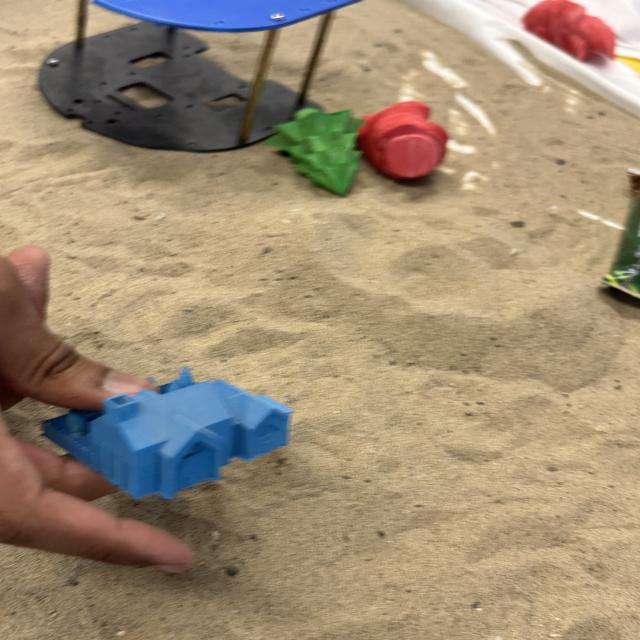fire: (520, 0, 624, 67), (361, 101, 448, 178)
house: (41, 365, 294, 501)
tree: (269, 105, 362, 197)
